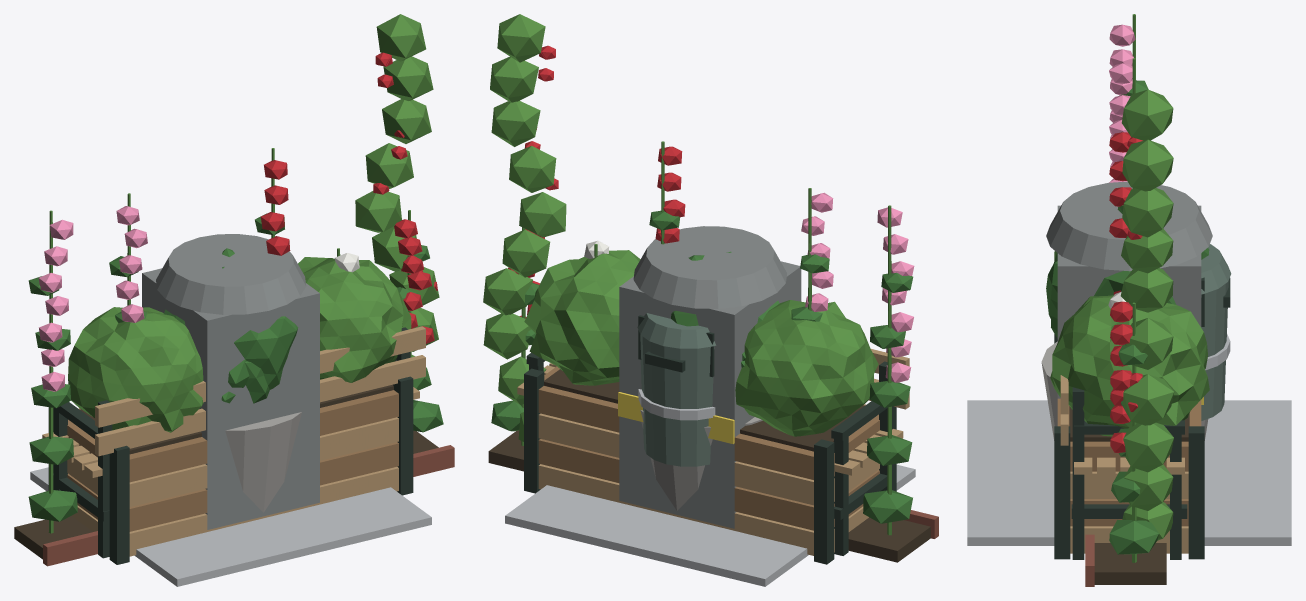
The model's file is props.glb.
The picture shows the model from 3 angles, left to right: view 1: azimuth 30°, elevation 25°; view 2: azimuth 150°, elevation 25°; view 3: azimuth 270°, elevation 25°; orthographic projection. The views are drawn at different scales.
Parts seen in each view (by area): view 1: p_planter, p_container, p_geveltuin, p_bench, p_pot; view 2: p_planter, p_container, p_geveltuin, p_bin, p_bench, p_pot; view 3: p_container, p_geveltuin, p_planter, p_bench, p_bin, p_pot.
Part boxes in pixels (x1,y1,x2,y2): p_planter: (48, 257, 413, 564); p_container: (30, 234, 431, 586); p_geveltuin: (14, 14, 454, 566); p_bench: (42, 326, 425, 558); p_pot: (164, 248, 301, 512); p_planter: (524, 250, 896, 564); p_container: (505, 226, 915, 586); p_geveltuin: (483, 14, 938, 562); p_bin: (637, 313, 716, 466); p_bench: (517, 349, 909, 555); p_pot: (640, 251, 779, 510); p_container: (967, 181, 1291, 545); p_geveltuin: (1085, 14, 1173, 586); p_planter: (1050, 251, 1209, 559); p_bench: (1060, 375, 1187, 559); p_bin: (1201, 244, 1231, 420); p_pot: (1041, 248, 1209, 440).
Bounding box in the file's own units: 2.28 × 2.31 × 1.4.
